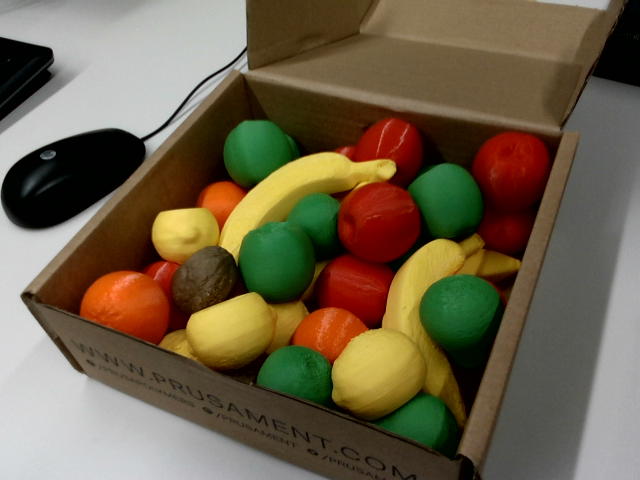banana: (200, 119, 400, 263), (373, 227, 483, 426), (458, 244, 521, 287)
green apple: (404, 254, 525, 376), (403, 152, 495, 249), (208, 104, 301, 193), (280, 181, 364, 267), (254, 335, 348, 408), (238, 222, 314, 302)
lemon: (312, 314, 438, 433), (178, 283, 290, 382), (141, 190, 226, 271)
orange: (75, 255, 183, 350), (285, 291, 368, 374), (190, 169, 247, 228)
red apple: (461, 118, 566, 222), (348, 106, 437, 192), (308, 248, 396, 330), (338, 183, 421, 262), (476, 207, 535, 255)
walnut: (159, 238, 247, 318)
